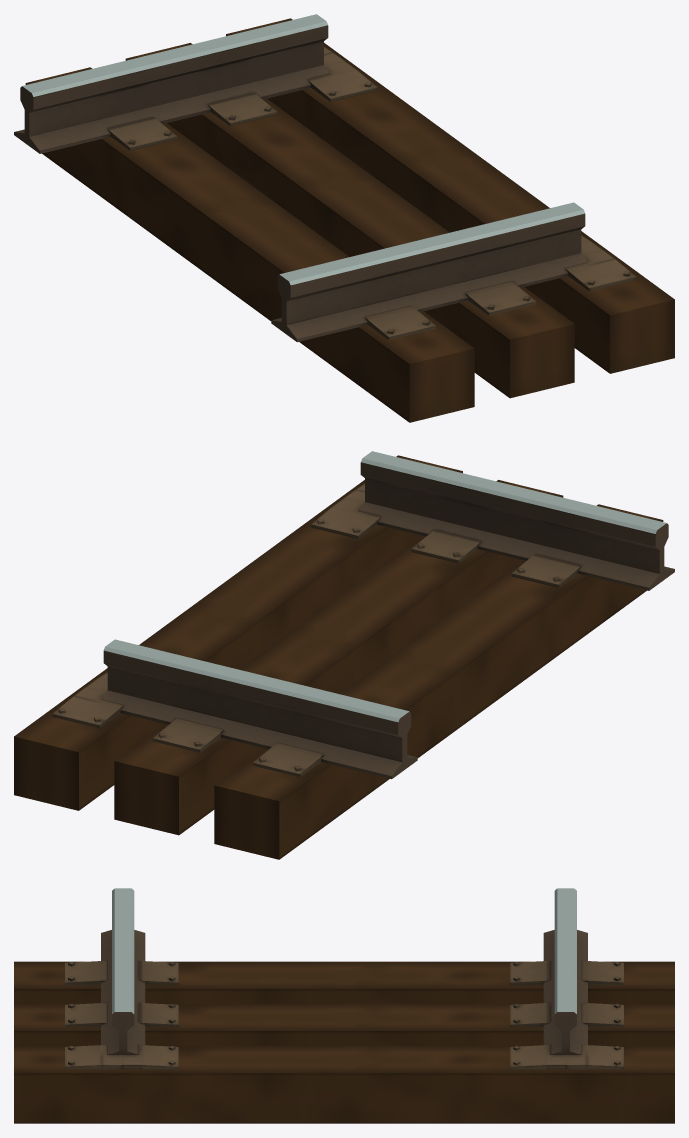
The model's file is spsf_tracks_bridge_simple.obj.
3 renders of one model, top to bottom at view 1: azimuth 30°, elevation 25°; view 2: azimuth 150°, elevation 25°; view 3: azimuth 270°, elevation 25°, orthographic. The views are drawn at different scales.
Visible parts, largest first — view 1: RAIL_BASE.003_RAIL_BASE.006, RAIL_LEFT_Cube.002, RAIL_RIGHT_Cube.010, RAIL_BASE.005_Cube.003; view 2: RAIL_BASE.003_RAIL_BASE.006, RAIL_RIGHT_Cube.010, RAIL_LEFT_Cube.002, RAIL_BASE.005_Cube.003; view 3: RAIL_BASE.003_RAIL_BASE.006, RAIL_BASE.005_Cube.003, RAIL_LEFT_Cube.002, RAIL_RIGHT_Cube.010.
Part boxes in pixels (left/top/right/bottom): RAIL_BASE.003_RAIL_BASE.006: left=25, top=18, right=674, bottom=422; RAIL_LEFT_Cube.002: left=271, top=202, right=587, bottom=342; RAIL_RIGHT_Cube.010: left=14, top=14, right=330, bottom=153; RAIL_BASE.005_Cube.003: left=107, top=47, right=636, bottom=340; RAIL_BASE.003_RAIL_BASE.006: left=14, top=455, right=663, bottom=859; RAIL_RIGHT_Cube.010: left=101, top=639, right=417, bottom=779; RAIL_LEFT_Cube.002: left=358, top=451, right=674, bottom=590; RAIL_BASE.005_Cube.003: left=52, top=484, right=581, bottom=777; RAIL_BASE.003_RAIL_BASE.006: left=14, top=961, right=674, bottom=1123; RAIL_BASE.005_Cube.003: left=65, top=961, right=623, bottom=1069; RAIL_LEFT_Cube.002: left=101, top=888, right=145, bottom=1054; RAIL_RIGHT_Cube.010: left=543, top=888, right=587, bottom=1054.
Size of the model in its own units: 1.11 by 0.3683 by 2.26.
Materials: 1 (1 with a texture image).
